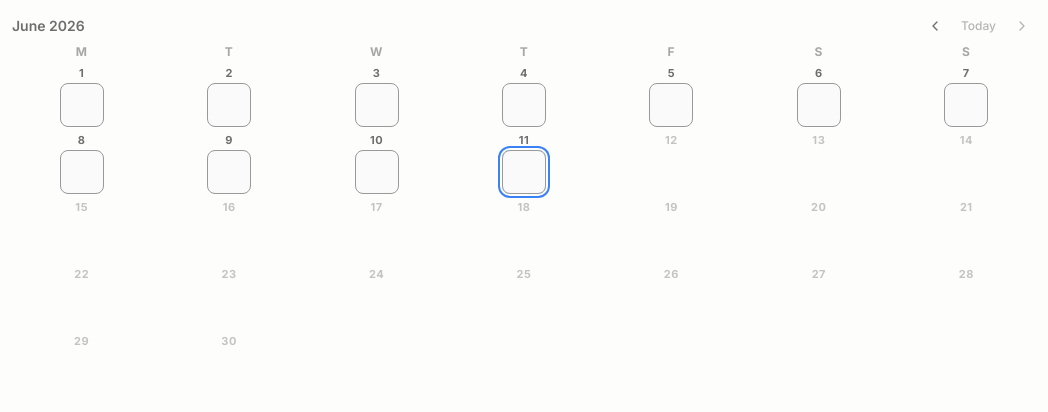
Test: HabitMonthGrid › jumps back to current month when clicking Today
The image size is (1048, 412).
Click the button named "Previous month".
click(935, 26)  # box [921,12,949,40]
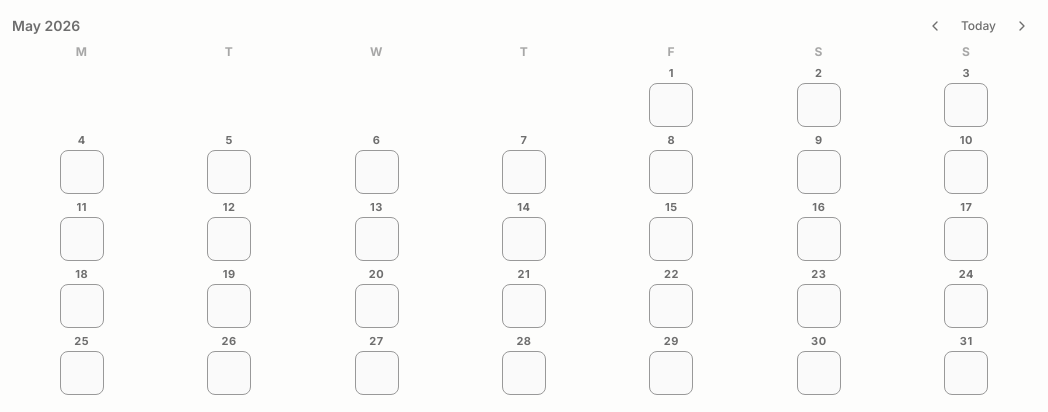
Check: the element named "May 2026" has attribute aria-label="May 2026"
Click the button "Today".
click(978, 26)  # box [953,12,1004,40]
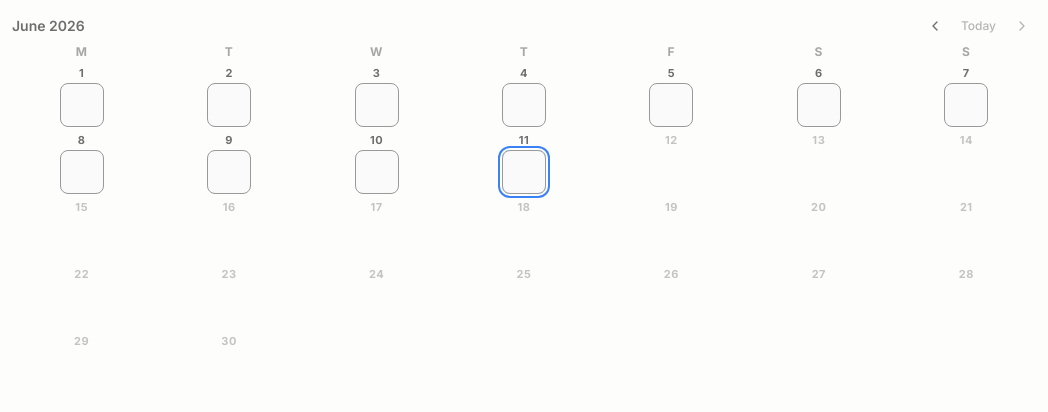
Check: the button "Today" is disabled, box [953,12,1004,40]
